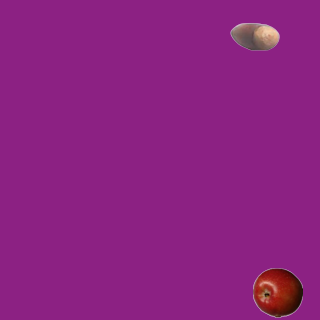Apple Braeburn: (252, 267, 302, 317)
Hazelnut: (229, 11, 279, 61)
